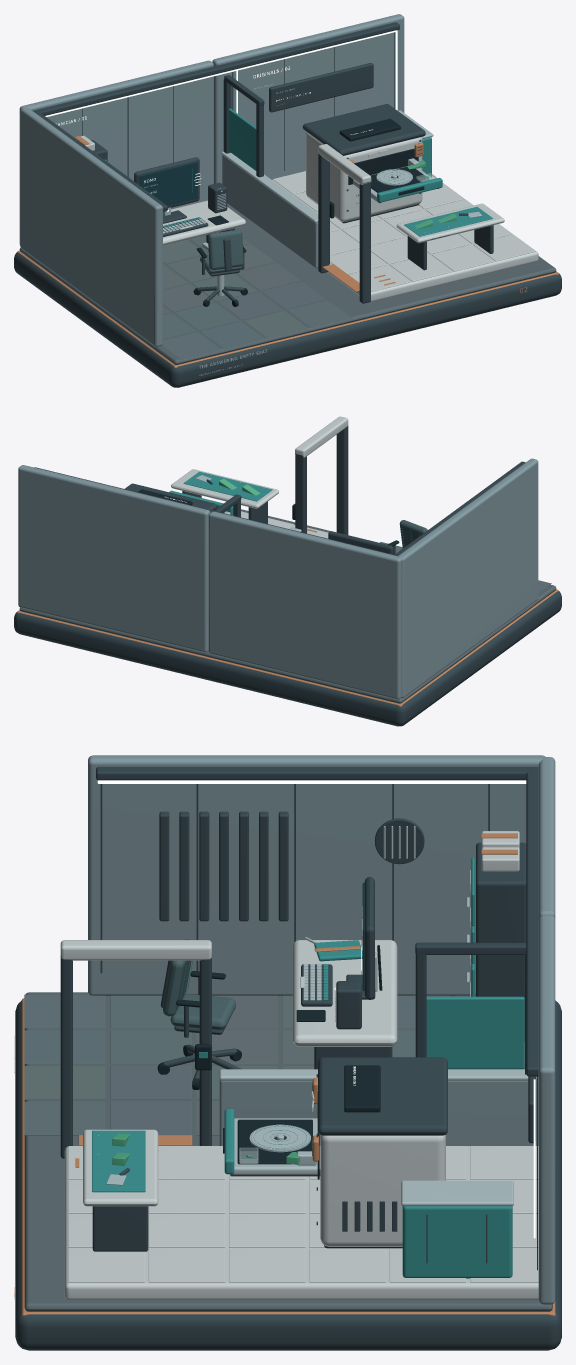
Rendered from future.glb.
3 renders of one model, top to bottom at view 1: azimuth 30°, elevation 25°; view 2: azimuth 150°, elevation 25°; view 3: azimuth 270°, elevation 25°, orthographic. The views are drawn at different scales.
Visible parts, largest first — view 1: Left wall cutaway, Archive rear wall, Technician rear wall, Floating diorama plinth, Finished floor plate, Cutaway separating wall, Manual archive cabinet shell, Rear cornice, Archive cabinet top lid, Archive chamber raised floor, Archive mechanical log wall panel, AI display surface (+47 smaller); view 2: Technician rear wall, Archive rear wall, Left wall cutaway, Floating diorama plinth, Finished floor plate, Copper reveal around base, Archive access door jamb, Evidence worktable top, Comparison mat, Archive access door jamb.001, Archive access doorway lintel, AI screen housing (+4 smaller); view 3: Left wall cutaway, Floating diorama plinth, Finished floor plate, Archive chamber raised floor, Manual archive cabinet shell, Cutaway separating wall, Archive cabinet top lid, Archive service cabinet, Partition lower infill, Archive rear wall, Main desk | porcelain shell, Rear storage cabinet (+61 smaller).
Part boxes in pixels (x1,y1,x2,y2): Left wall cutaway: (20, 107, 162, 346); Archive rear wall: (212, 14, 404, 183); Technician rear wall: (19, 60, 213, 245); Floating diorama plinth: (14, 252, 561, 387); Finished floor plate: (19, 204, 556, 364); Cutaway separating wall: (222, 155, 318, 268); Manual archive cabinet shell: (306, 132, 422, 221); Rear cornice: (33, 22, 399, 115); Archive cabinet top lid: (302, 104, 425, 155); Archive chamber raised floor: (272, 175, 538, 301); Archive mechanical log wall panel: (269, 63, 373, 112); AI display surface: (139, 162, 197, 205); Technician rear wall: (208, 511, 401, 699); Archive rear wall: (18, 465, 210, 652); Left wall cutaway: (398, 458, 538, 698); Floating diorama plinth: (14, 591, 561, 726); Finished floor plate: (19, 509, 556, 703); Copper reveal around base: (17, 589, 558, 706); Archive access door jamb: (336, 425, 348, 534); Evidence worktable top: (171, 469, 278, 508); Comparison mat: (183, 471, 272, 501); Archive access door jamb.001: (295, 454, 306, 533); Archive access doorway lintel: (295, 416, 348, 457); AI screen housing: (328, 531, 393, 554); Left wall cutaway: (88, 755, 545, 995); Floating diorama plinth: (15, 1001, 561, 1350); Finished floor plate: (24, 992, 552, 1311); Archive chamber raised floor: (64, 1146, 538, 1299); Manual archive cabinet shell: (320, 1135, 445, 1246); Cutaway separating wall: (219, 1080, 536, 1145); Archive cabinet top lid: (318, 1057, 447, 1135); Archive service cabinet: (402, 1206, 512, 1278); Partition lower infill: (426, 996, 524, 1069); Archive rear wall: (538, 915, 555, 1304); Main desk | porcelain shell: (293, 940, 397, 1046); Rear storage cabinet: (476, 842, 526, 1041).
Bounding box in the file's own units: 9.2 × 3.76 × 6.62.
